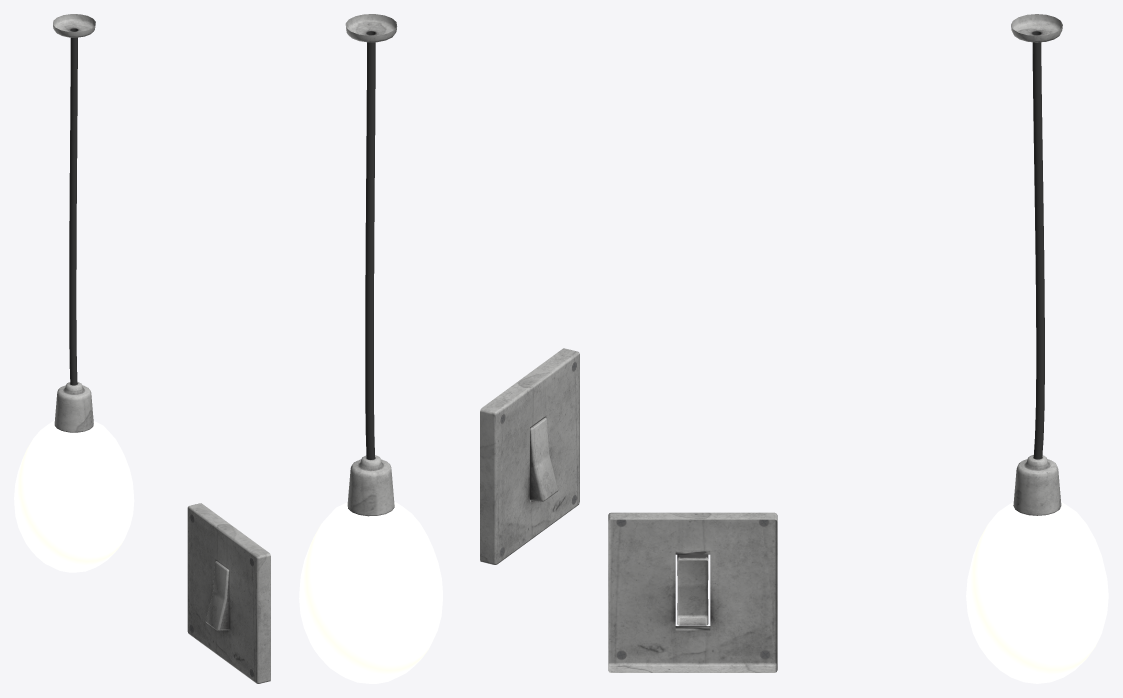
The model's file is SM_light_switch and bulb_embedded.fbx.
3 renders of one model, left to right at view 1: azimuth 30°, elevation 25°; view 2: azimuth 150°, elevation 25°; view 3: azimuth 270°, elevation 25°, orthographic. The views are drawn at different scales.
Visible parts, largest first — view 1: SM_bulb.003, SM_light_switch.003, SM_bulb.004, SM_light_switch.002; view 2: SM_bulb.003, SM_light_switch.003, SM_bulb.004, SM_light_switch.002; view 3: SM_light_switch.003, SM_bulb.003, SM_bulb.004, SM_light_switch.002.
Boxes of the visible parts, bbox=[...] form: SM_bulb.003: bbox=[14, 381, 134, 572]; SM_light_switch.003: bbox=[187, 503, 270, 683]; SM_bulb.004: bbox=[53, 14, 95, 385]; SM_light_switch.002: bbox=[205, 561, 229, 630]; SM_bulb.003: bbox=[299, 455, 442, 683]; SM_light_switch.003: bbox=[480, 348, 579, 564]; SM_bulb.004: bbox=[345, 14, 397, 459]; SM_light_switch.002: bbox=[530, 417, 558, 501]; SM_light_switch.003: bbox=[608, 512, 777, 672]; SM_bulb.003: bbox=[966, 454, 1108, 683]; SM_bulb.004: bbox=[1011, 14, 1062, 459]; SM_light_switch.002: bbox=[677, 554, 708, 625].
Bounding box in the file's own units: 12.76 × 63.48 × 44.05.
Materials: 1 (1 with a texture image).
